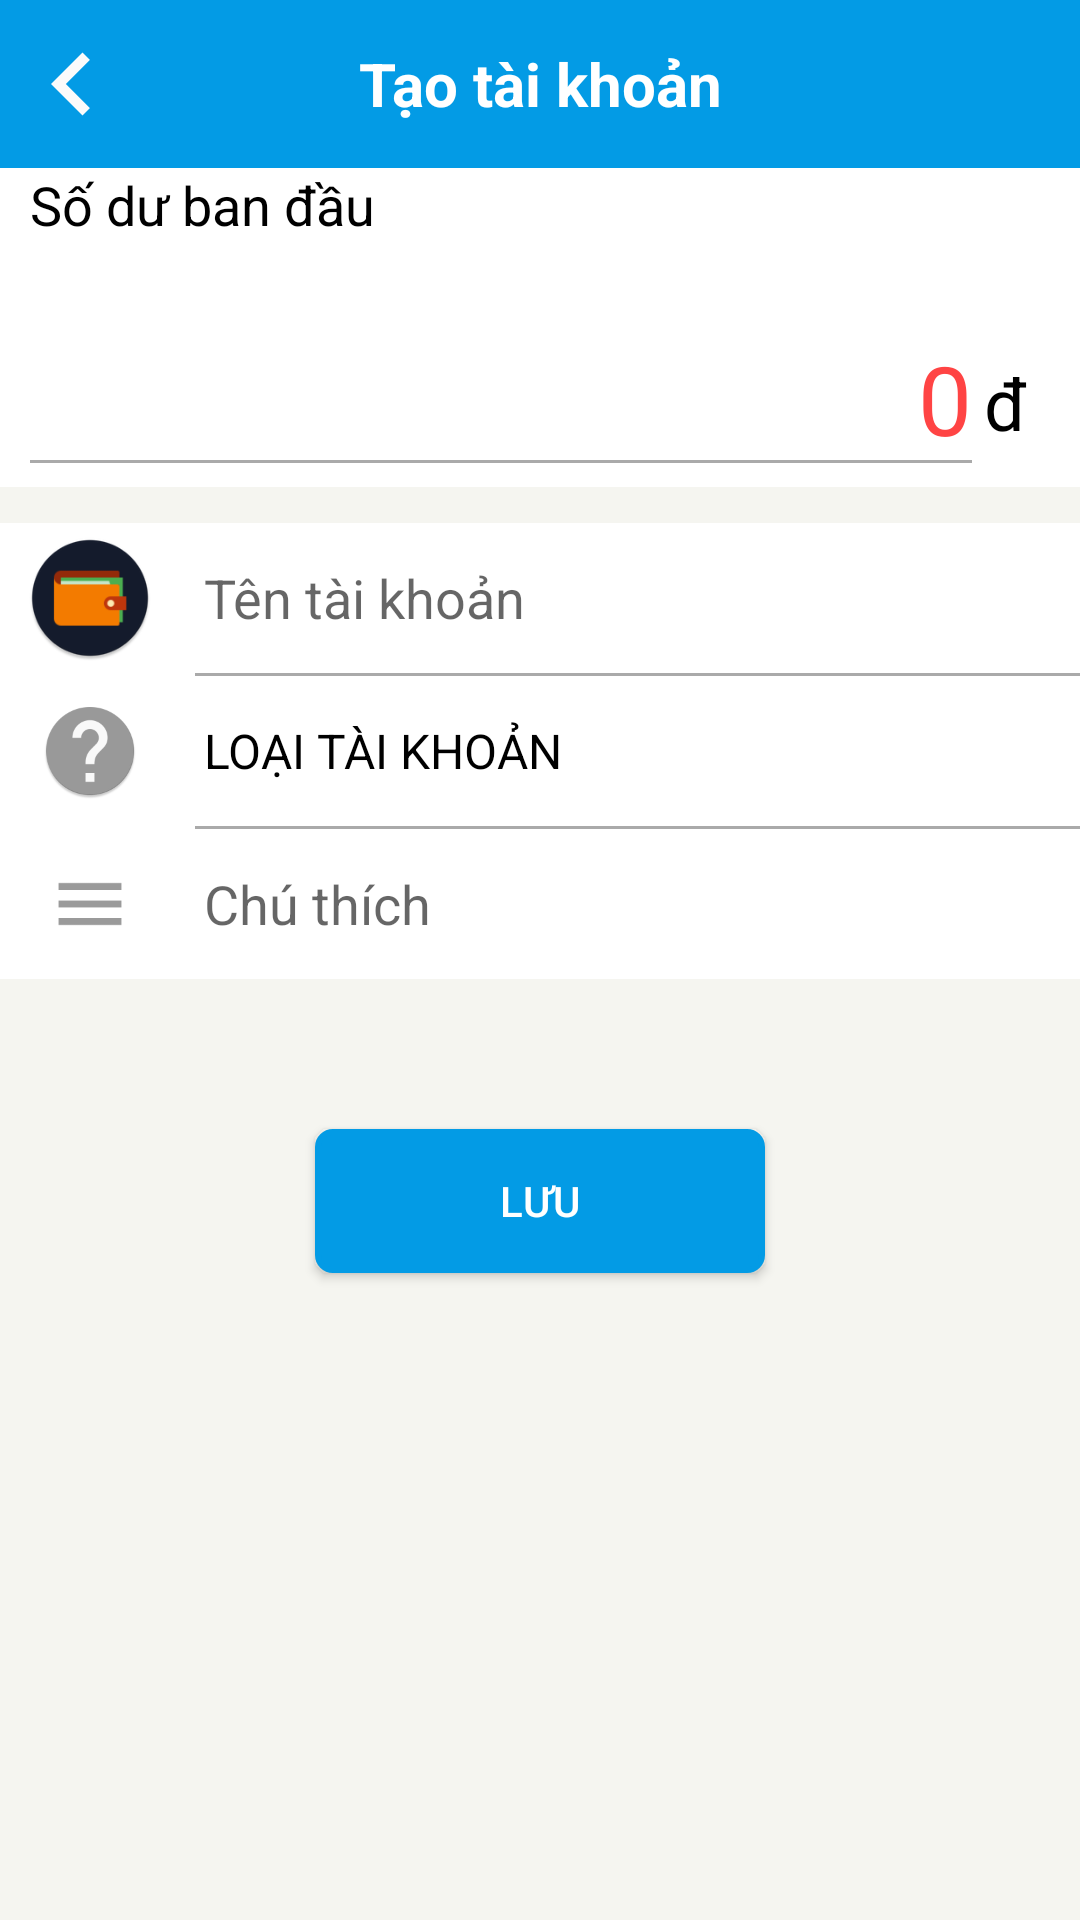

Named icons in this screenshot (1080px×1920px) and their centers, point (x, y):
chamhoi: point (90, 752)
trolai: point (70, 84)
